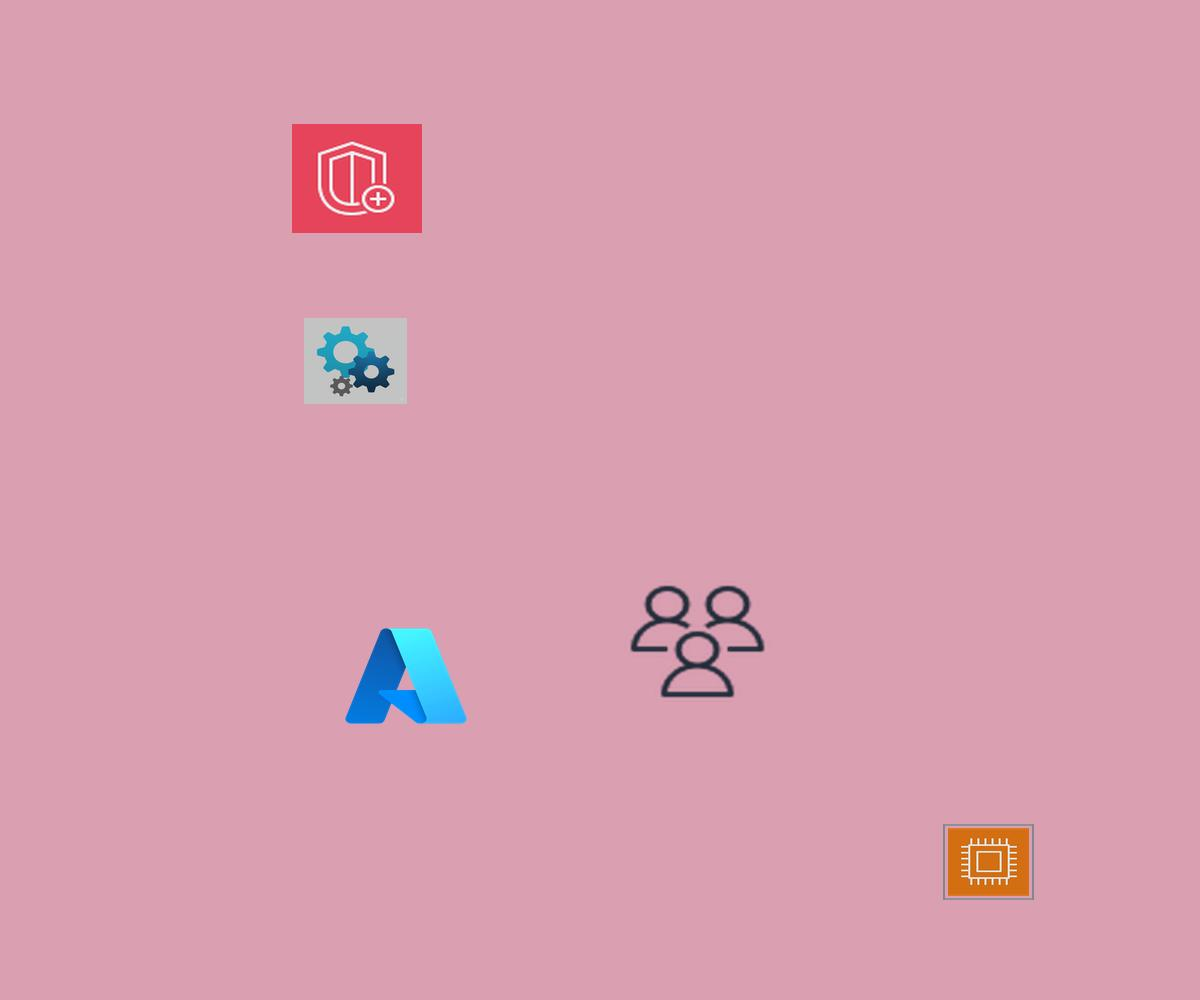AWS-Category_Compute: (943, 824, 1034, 900)
AWS-Res_Users: (625, 581, 770, 702)
AWS-Shield: (292, 124, 422, 233)
Azure_api: (304, 318, 407, 404)
Azure_services: (340, 621, 472, 731)
